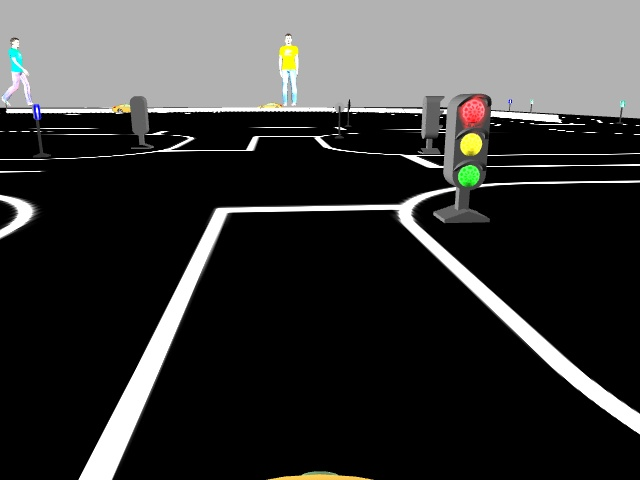TrafficLight: (442, 88, 492, 188)
